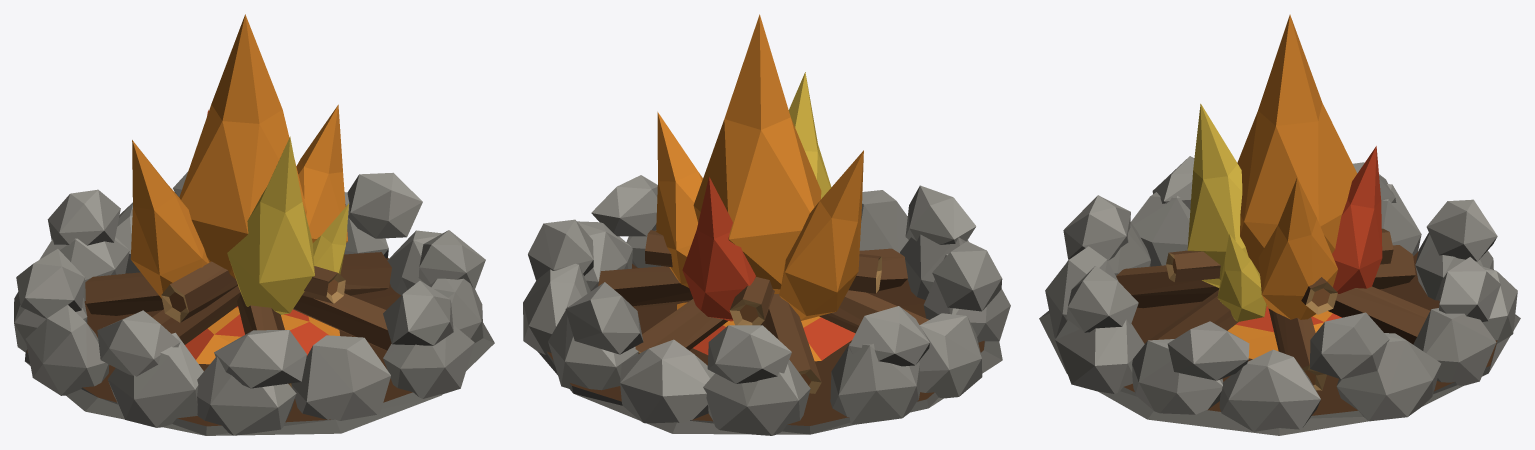
File: campfire_2.glb
3 views of the same model, side by side, from view 1: azimuth 30°, elevation 25°; view 2: azimuth 150°, elevation 25°; view 3: azimuth 270°, elevation 25° (orthographic). The views are drawn at different scales.
Parts seen in each view (by area): view 1: campfire_2, flame; view 2: campfire_2, flame; view 3: campfire_2, flame.
Part boxes in pixels (x1=…): campfire_2: x1=14, y1=172, x2=494, y2=435; flame: x1=130, y1=14, x2=348, y2=314; campfire_2: x1=523, y1=175, x2=1010, y2=435; flame: x1=656, y1=14, x2=863, y2=321; campfire_2: x1=1039, y1=156, x2=1520, y2=435; flame: x1=1187, y1=14, x2=1382, y2=321.
Bounding box in the file's own units: 1.35 × 0.98 × 1.34.
